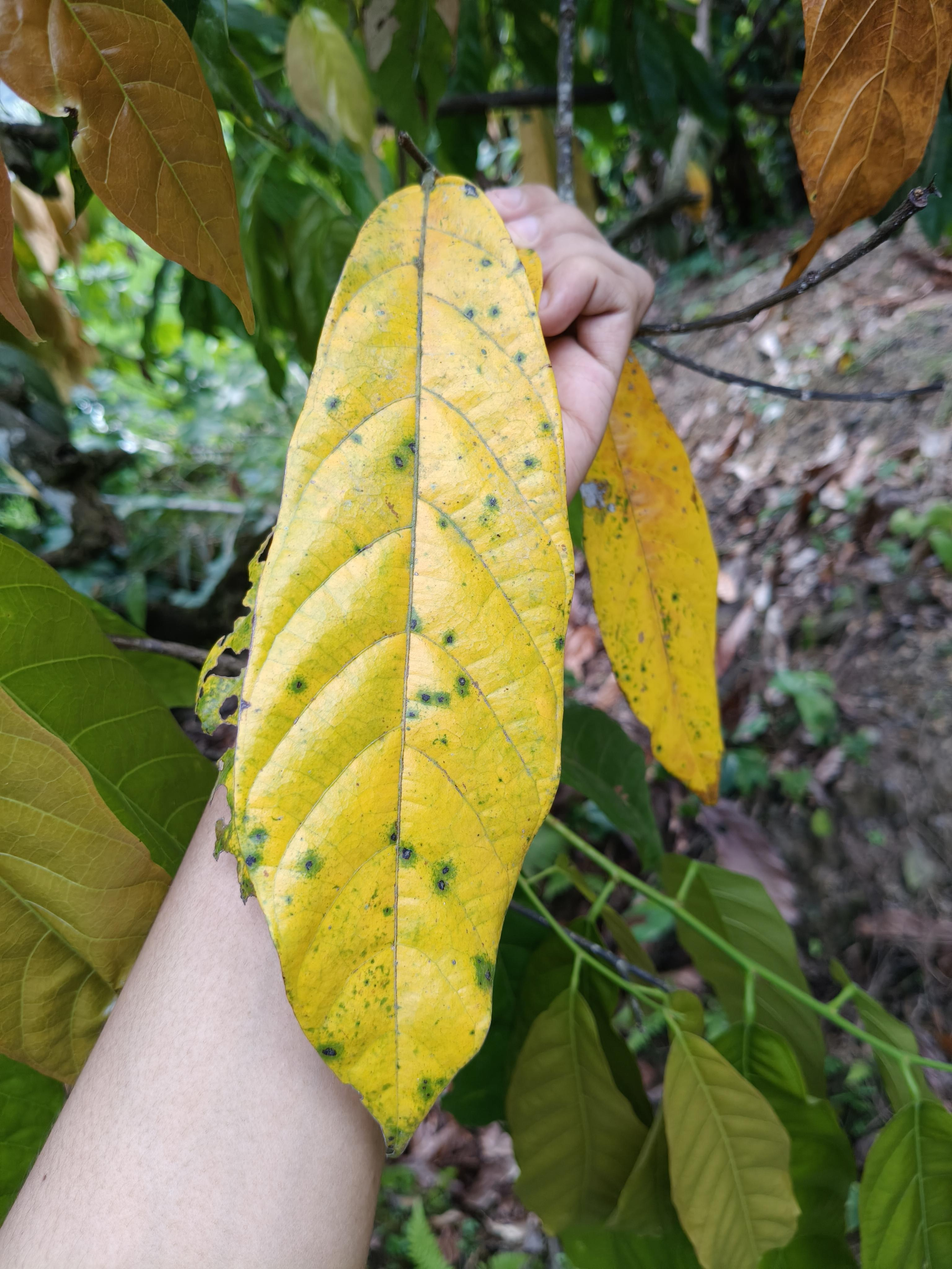deficiencia_potasio: (219, 140, 574, 1155)
